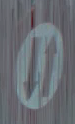Two way: (12, 13, 65, 111)
